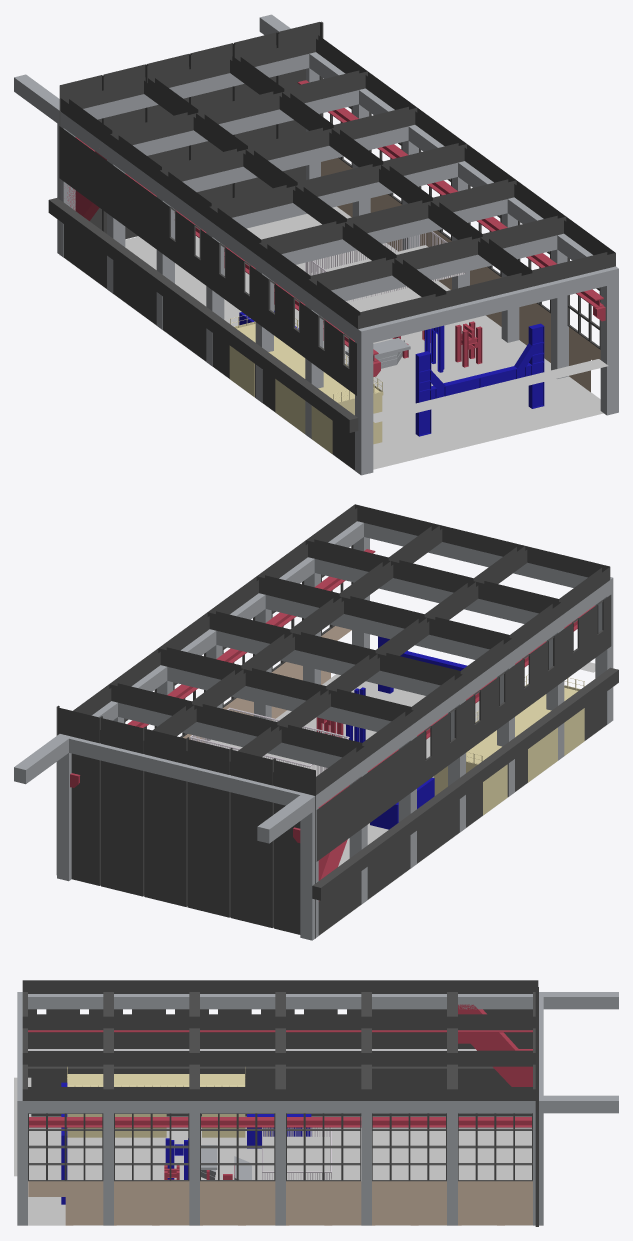
File: CannonLevel.glb
3 views of the same model, one above another, from view 1: azimuth 30°, elevation 25°; view 2: azimuth 150°, elevation 25°; view 3: azimuth 270°, elevation 25° (orthographic). The views are drawn at different scales.
Parts seen in each view (by area): view 1: BackWalls.001, Floor.001, SmallRooms.001, BigFrame.001, Platform.005, Platform.002, Frame.039, ConcreteRect.001, Frame.033; view 2: BackWalls.001, SmallRooms.001, Floor.001, Platform.002, Container.001, BigFrame.001; view 3: BackWalls.001, Floor.001, SmallRooms.001, Platform.002, Container.001, Platform.005, Frame.033, ConcreteRect.001, ConcreteSkewed.007, BigFrame.001.
Part boxes in pixels (left/top/right/bottom): BackWalls.001: left=14, top=14, right=618, bottom=475; Floor.001: left=64, top=206, right=603, bottom=470; SmallRooms.001: left=229, top=315, right=383, bottom=453; BigFrame.001: left=415, top=323, right=544, bottom=436; Platform.005: left=373, top=359, right=608, bottom=422; Platform.002: left=305, top=231, right=465, bottom=302; Frame.039: left=455, top=321, right=482, bottom=367; ConcreteRect.001: left=345, top=338, right=410, bottom=368; Frame.033: left=424, top=325, right=444, bottom=372; BackWalls.001: left=14, top=504, right=618, bottom=940; SmallRooms.001: left=433, top=674, right=584, bottom=815; Floor.001: left=100, top=674, right=607, bottom=935; Platform.002: left=189, top=707, right=349, bottom=776; Container.001: left=370, top=777, right=434, bottom=829; BigFrame.001: left=378, top=636, right=467, bottom=693; BackWalls.001: left=17, top=980, right=618, bottom=1226; Floor.001: left=28, top=1116, right=532, bottom=1225; SmallRooms.001: left=67, top=1066, right=245, bottom=1137; Platform.002: left=262, top=1127, right=331, bottom=1179; Container.001: left=247, top=1114, right=311, bottom=1148; Platform.005: left=14, top=1077, right=31, bottom=1176; Frame.033: left=165, top=1138, right=188, bottom=1179; ConcreteRect.001: left=201, top=1145, right=217, bottom=1179; ConcreteSkewed.007: left=223, top=1156, right=251, bottom=1179; BigFrame.001: left=61, top=1082, right=67, bottom=1204.
Size of the model in its own units: 31.39 by 18.92 by 70.4.
